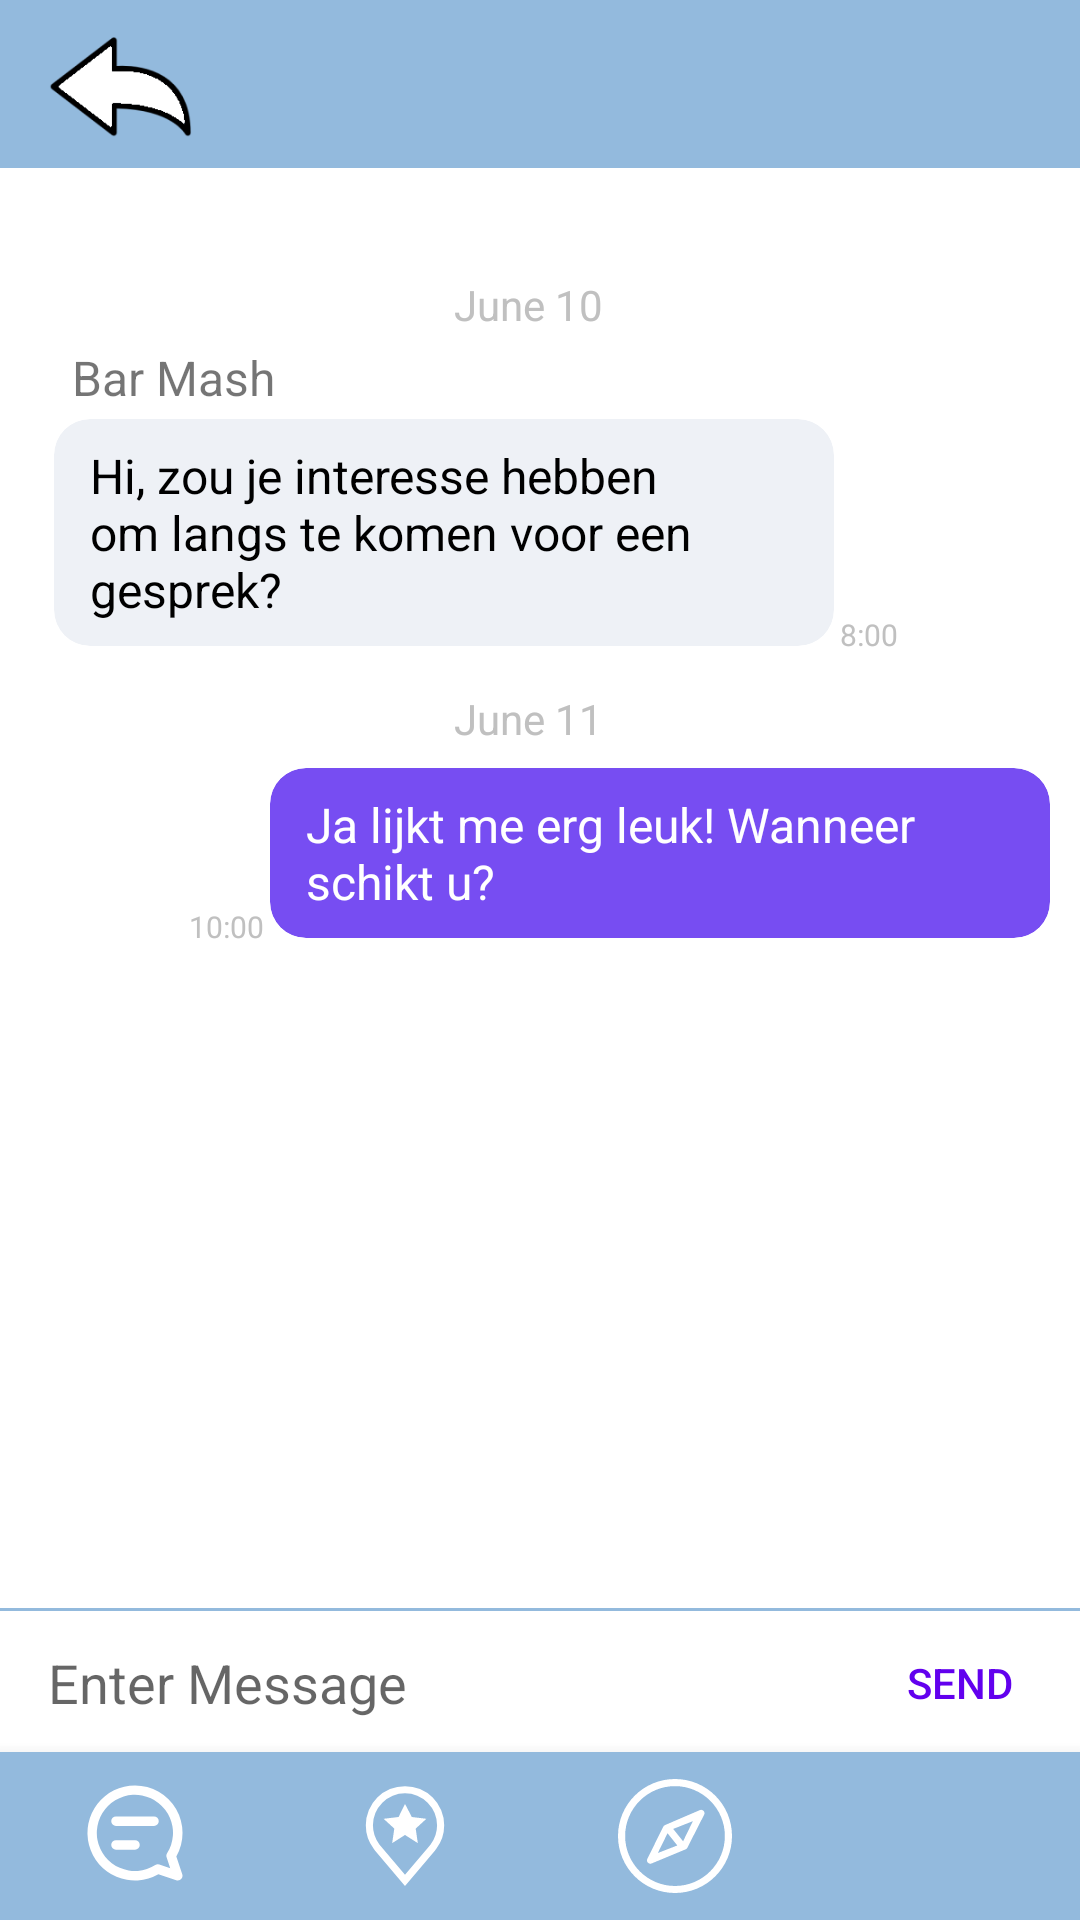

Locate icon controls on the screen. Image size 1080 × 1920, boxes as [x1, y1, x2, y2].
back button: [50, 37, 191, 136]
